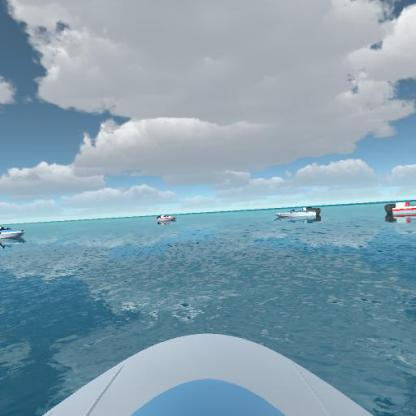usv1: (275, 202, 326, 226), (0, 220, 27, 247)
usv3: (383, 196, 415, 224), (156, 212, 178, 230)
